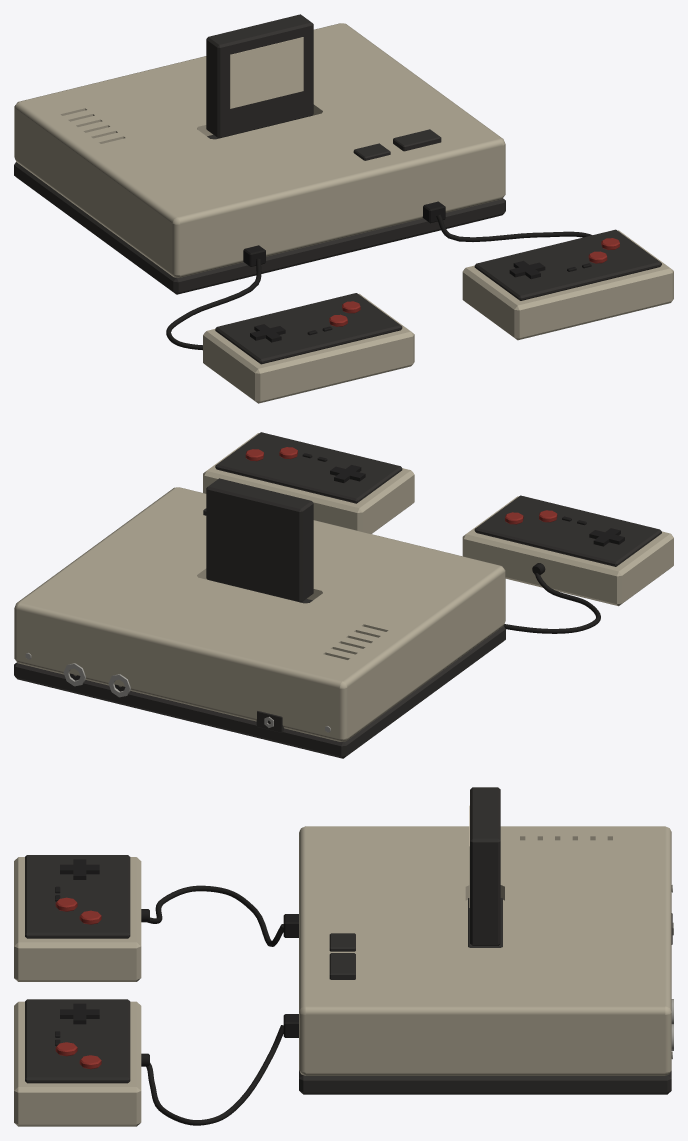
File: bedroom-game-console-722fff7f6a02.glb
The picture shows the model from 3 angles, top to bottom: view 1: azimuth 30°, elevation 25°; view 2: azimuth 150°, elevation 25°; view 3: azimuth 270°, elevation 25°; orthographic projection. The views are drawn at different scales.
Visible parts, largest first — view 1: plastic-light, plastic-dark, paper, rubber, enamel-red; view 2: plastic-light, plastic-dark, rubber, enamel-red, brushed; view 3: plastic-light, plastic-dark, rubber, enamel-red.
Part boxes in pixels (x1,y1,x2,y2): plastic-light: (14, 23, 673, 403); plastic-dark: (14, 14, 661, 364); paper: (230, 37, 303, 108); rubber: (166, 201, 592, 350); enamel-red: (329, 238, 619, 326); plastic-light: (14, 433, 673, 741); plastic-dark: (14, 432, 661, 758); rubber: (302, 453, 624, 633); enamel-red: (245, 447, 557, 524); brushed: (25, 653, 330, 732); plastic-light: (14, 826, 671, 1126); plastic-dark: (25, 787, 672, 1094); rubber: (55, 859, 298, 1125); enamel-red: (55, 897, 101, 1069).
Size of the model in its own units: 0.2554 by 0.1 by 0.301.
